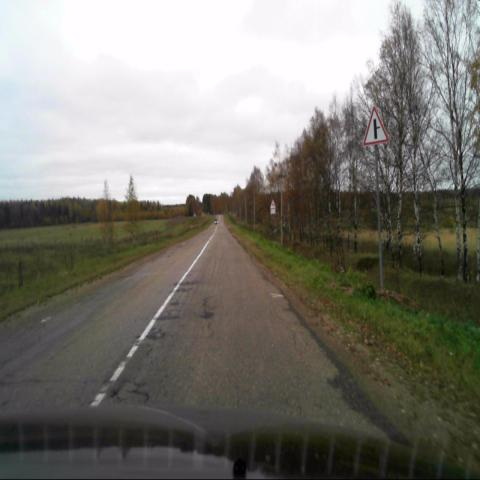2_3_2: (364, 104, 390, 146)
